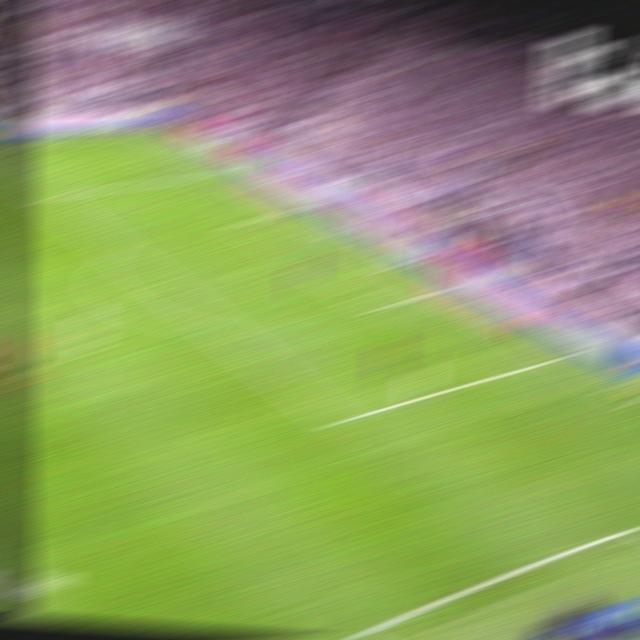bigarea_bottom_inner: (324, 409, 353, 432)
bigarea_bottom_outter: (544, 349, 572, 364)
bigarea_top_inner: (35, 191, 59, 200)
bigarea_top_outter: (213, 168, 237, 176)
bottom_arc_area_intersection: (203, 318, 233, 335)
corner: (142, 130, 167, 133)
smallarea_top_inner: (228, 218, 252, 224)
top_arc_area_intersection: (103, 242, 130, 256)
